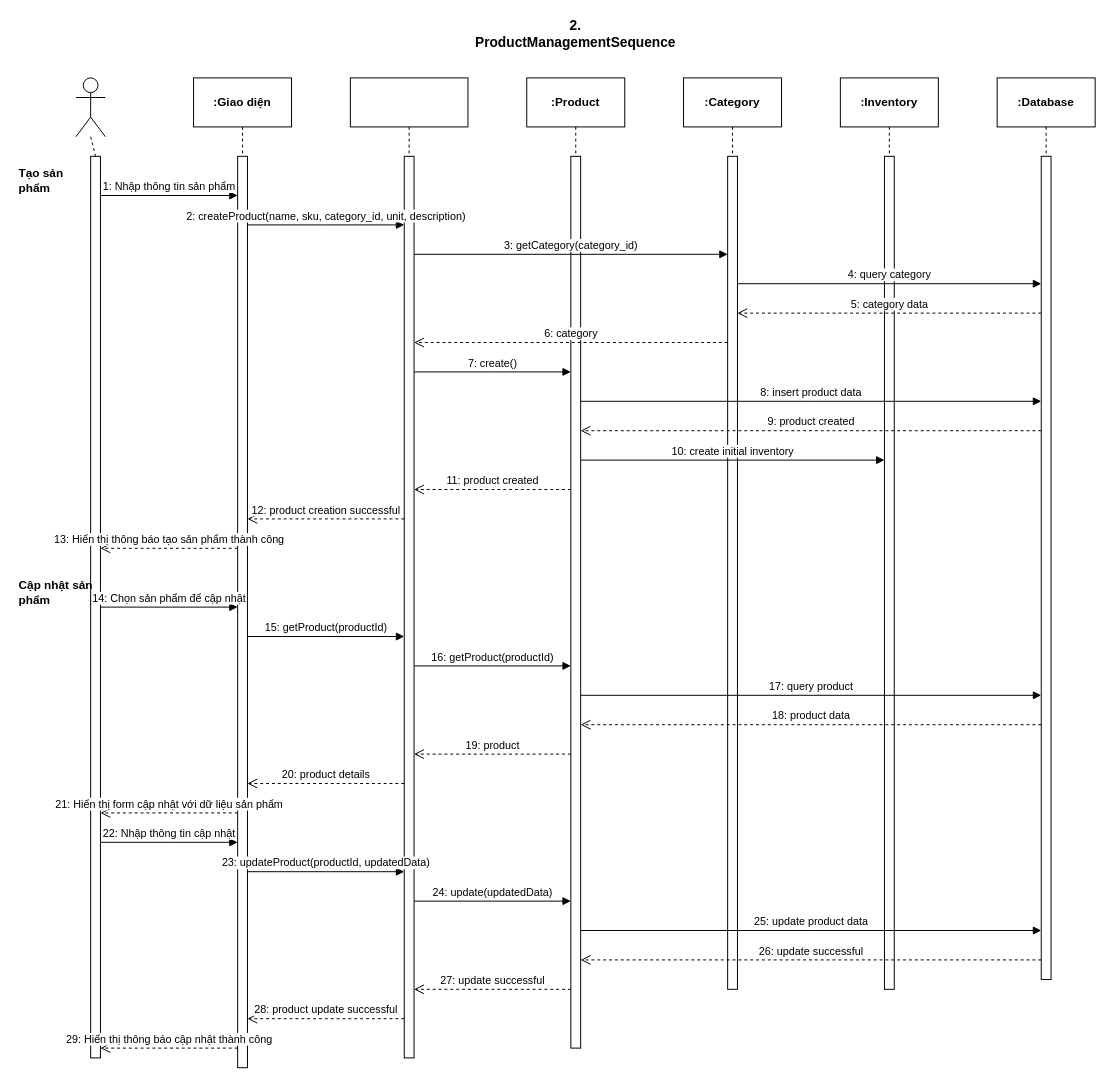
The diagram is 1112 pixels wide and 1085 high, and some of its shapes have lost their labels. The centre of each missing label's shape, as x and y in pixels:
:ProductController: (x=408, y=102)
Người dùng: (x=90, y=107)
